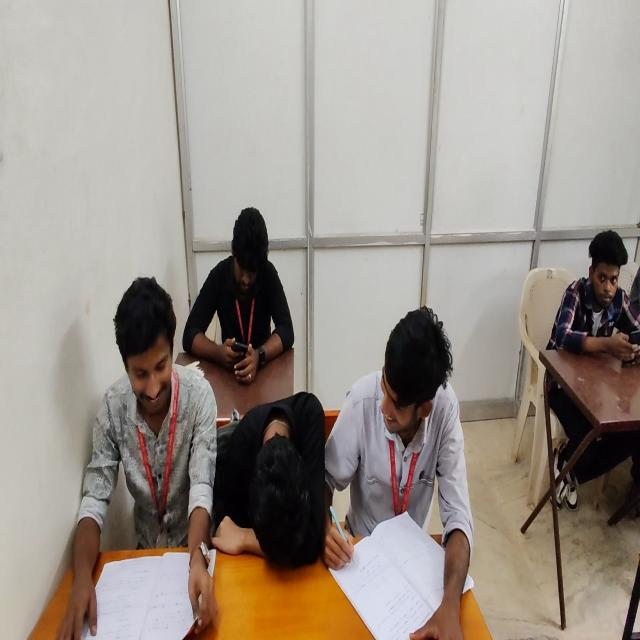reading: (68, 270, 222, 640)
sleeping: (213, 399, 335, 574)
turning: (324, 289, 474, 640)
using_mobile: (177, 188, 305, 389), (542, 207, 640, 380)
